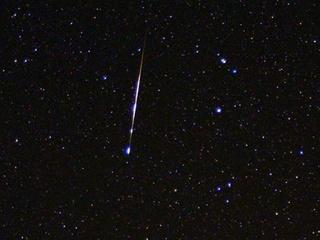meteorite: (125, 43, 158, 147)
